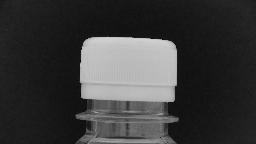Loose Cap: (70, 79, 182, 126)
